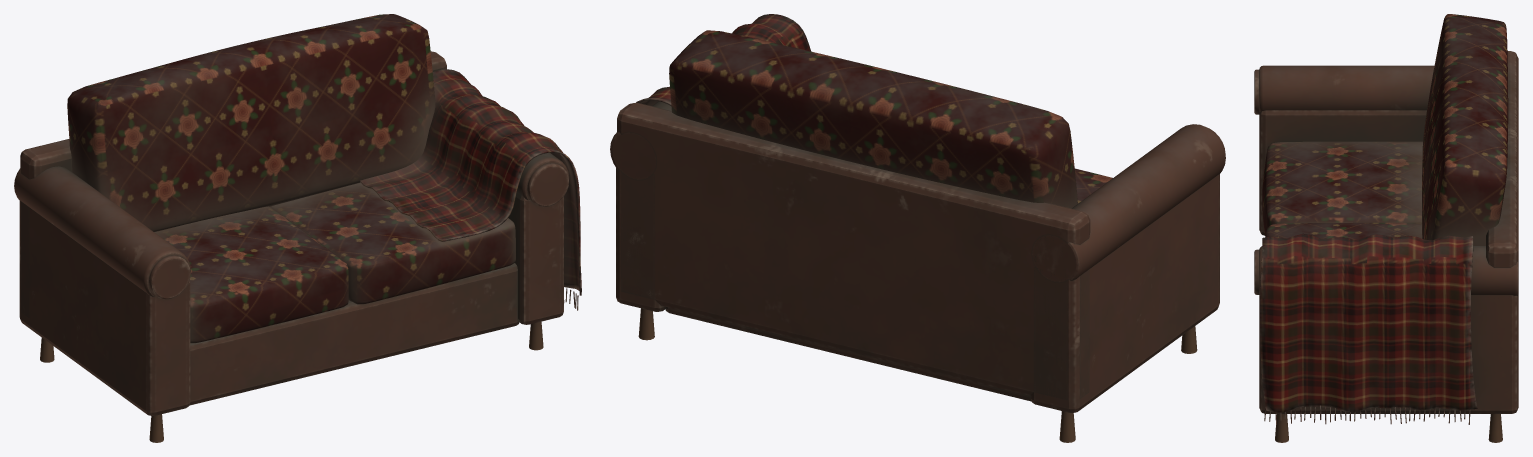
The model's file is Sofa.fbx.
3 views of the same model, side by side, from view 1: azimuth 30°, elevation 25°; view 2: azimuth 150°, elevation 25°; view 3: azimuth 270°, elevation 25° (orthographic). The views are drawn at different scales.
Visible parts, largest first — view 1: Sofa_Mesh; view 2: Sofa_Mesh; view 3: Sofa_Mesh.
Part boxes in pixels (x1=…): Sofa_Mesh: x1=14, y1=14, x2=581, y2=442; Sofa_Mesh: x1=610, y1=14, x2=1225, y2=442; Sofa_Mesh: x1=1254, y1=14, x2=1518, y2=442.
Size of the model in its own units: 1.55 by 0.9125 by 0.815.
